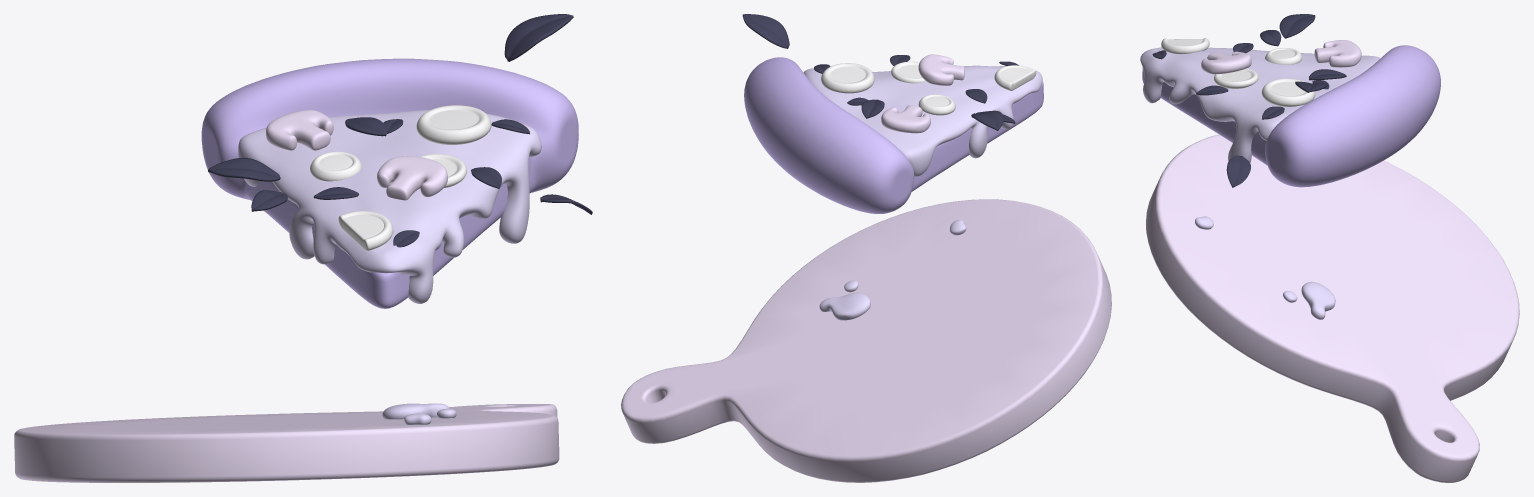
Rendered from sicilian_defense.glb.
3 renders of one model, left to right at view 1: azimuth 30°, elevation 25°; view 2: azimuth 150°, elevation 25°; view 3: azimuth 270°, elevation 25°, orthographic. The views are drawn at different scales.
Parts seen in each view (by area): view 1: Plate, Pizza Slice, Cheese.001, Plane.008, Circle.001, Plane.007, Plane.021, Circle.003, Circle.008, Plane.017, Plane.003, Circle.002 (+1 smaller); view 2: Plate, Pizza Slice, Cheese.001, Circle.001, Plane.008, Plane.007, Plane.003, Plane.021, Circle.003, Circle.008, Circle.002; view 3: Plate, Pizza Slice, Cheese.001, Circle.001, Plane.007, Plane.008, Plane.003, Circle.002, Circle.003, Plane.017, Plane.018, Circle.008.
Part boxes in pixels (left/top/right/bottom): Plate: left=14, top=404, right=559, bottom=482; Pizza Slice: left=201, top=58, right=578, bottom=308; Cheese.001: left=238, top=110, right=541, bottom=303; Plane.008: left=377, top=156, right=447, bottom=200; Circle.001: left=416, top=105, right=491, bottom=144; Plane.007: left=266, top=110, right=333, bottom=150; Plane.021: left=504, top=14, right=573, bottom=61; Circle.003: left=338, top=211, right=393, bottom=250; Circle.008: left=310, top=151, right=361, bottom=181; Plane.017: left=208, top=158, right=280, bottom=181; Plane.003: left=382, top=403, right=449, bottom=419; Circle.002: left=420, top=154, right=466, bottom=187; Plate: left=621, top=199, right=1111, bottom=482; Pizza Slice: left=744, top=57, right=1043, bottom=213; Cheese.001: left=803, top=65, right=1042, bottom=176; Circle.001: left=821, top=63, right=874, bottom=93; Plane.008: left=918, top=54, right=964, bottom=85; Plane.007: left=881, top=105, right=930, bottom=133; Plane.003: left=819, top=292, right=870, bottom=320; Plane.021: left=742, top=14, right=789, bottom=48; Circle.003: left=994, top=65, right=1036, bottom=90; Circle.008: left=918, top=94, right=955, bottom=115; Circle.002: left=891, top=61, right=926, bottom=83; Plate: left=1146, top=134, right=1519, bottom=482; Pizza Slice: left=1142, top=45, right=1440, bottom=187; Cheese.001: left=1140, top=47, right=1380, bottom=162; Circle.001: left=1261, top=78, right=1315, bottom=106; Plane.007: left=1314, top=40, right=1361, bottom=67; Plane.008: left=1201, top=51, right=1251, bottom=74; Plane.003: left=1301, top=281, right=1335, bottom=319; Circle.002: left=1214, top=68, right=1258, bottom=88; Circle.003: left=1161, top=38, right=1209, bottom=54; Plane.017: left=1279, top=14, right=1315, bottom=38; Plane.018: left=1226, top=155, right=1250, bottom=187; Circle.008: left=1265, top=48, right=1302, bottom=64.
Bounding box in the file's own units: 0.2615 × 0.2285 × 0.2092.
